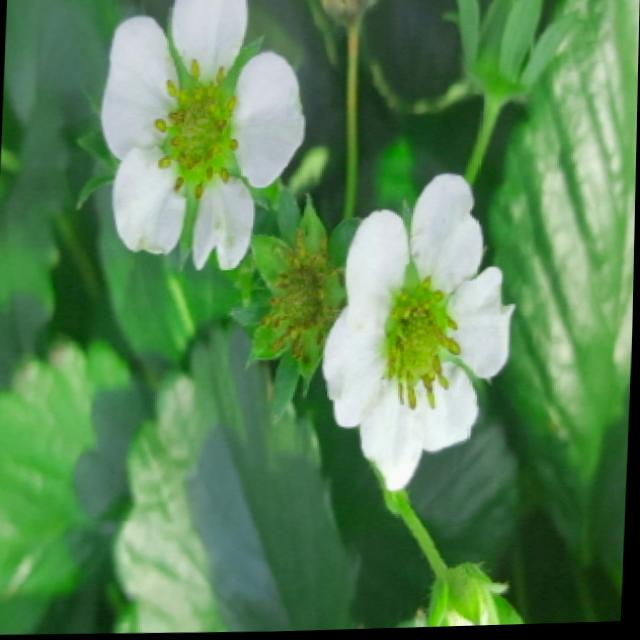Blossom Blight: (147, 54, 248, 207), (378, 269, 471, 421), (250, 245, 345, 365)
